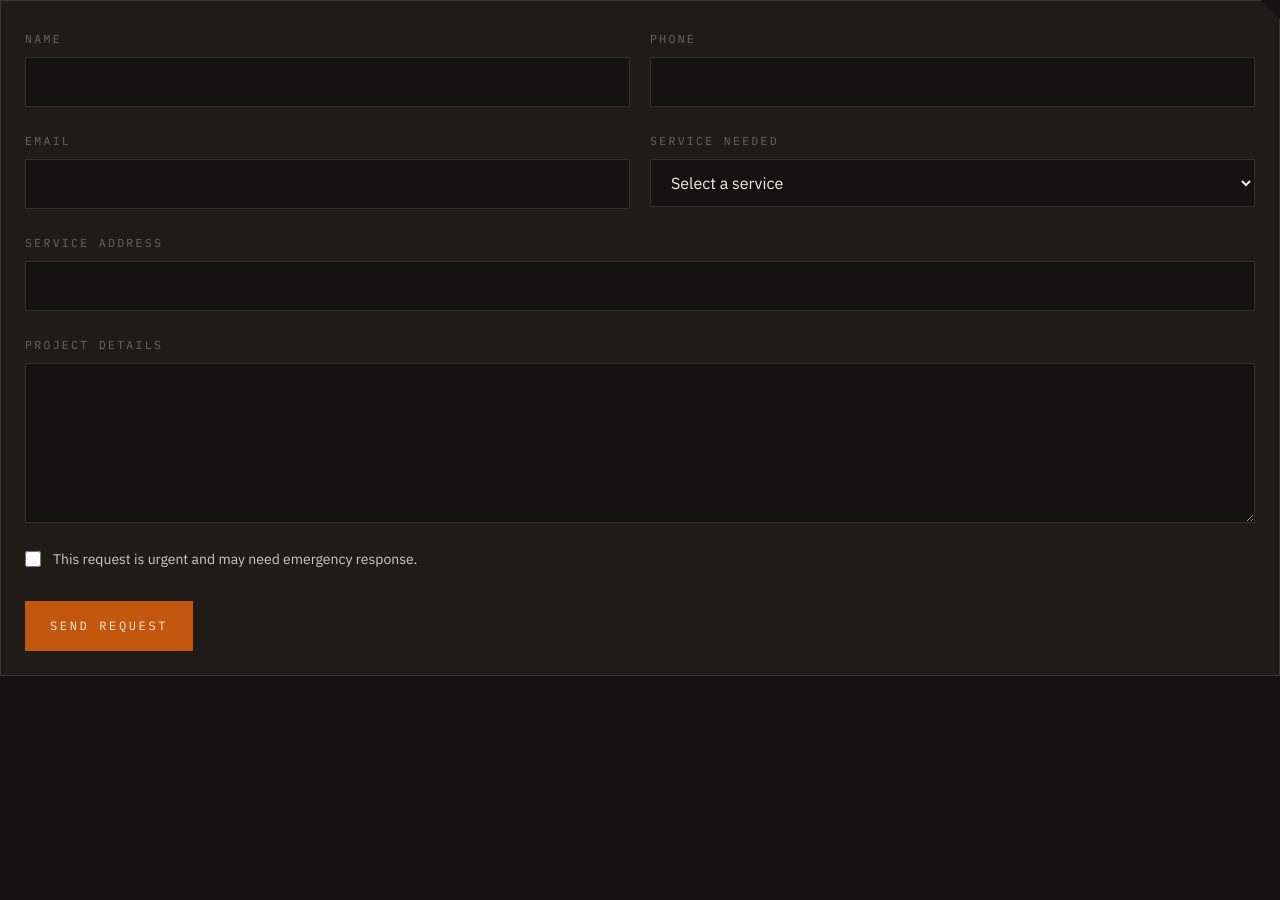
it: QuoteRequestForm › shows an error message when the submission fails
Type "Taylor Sparks" into the field labelled "Name" at [328, 82], box [25,57,630,107]
Type "555-0100" into the field labelled "Phone" at [952, 82], box [650,57,1255,107]
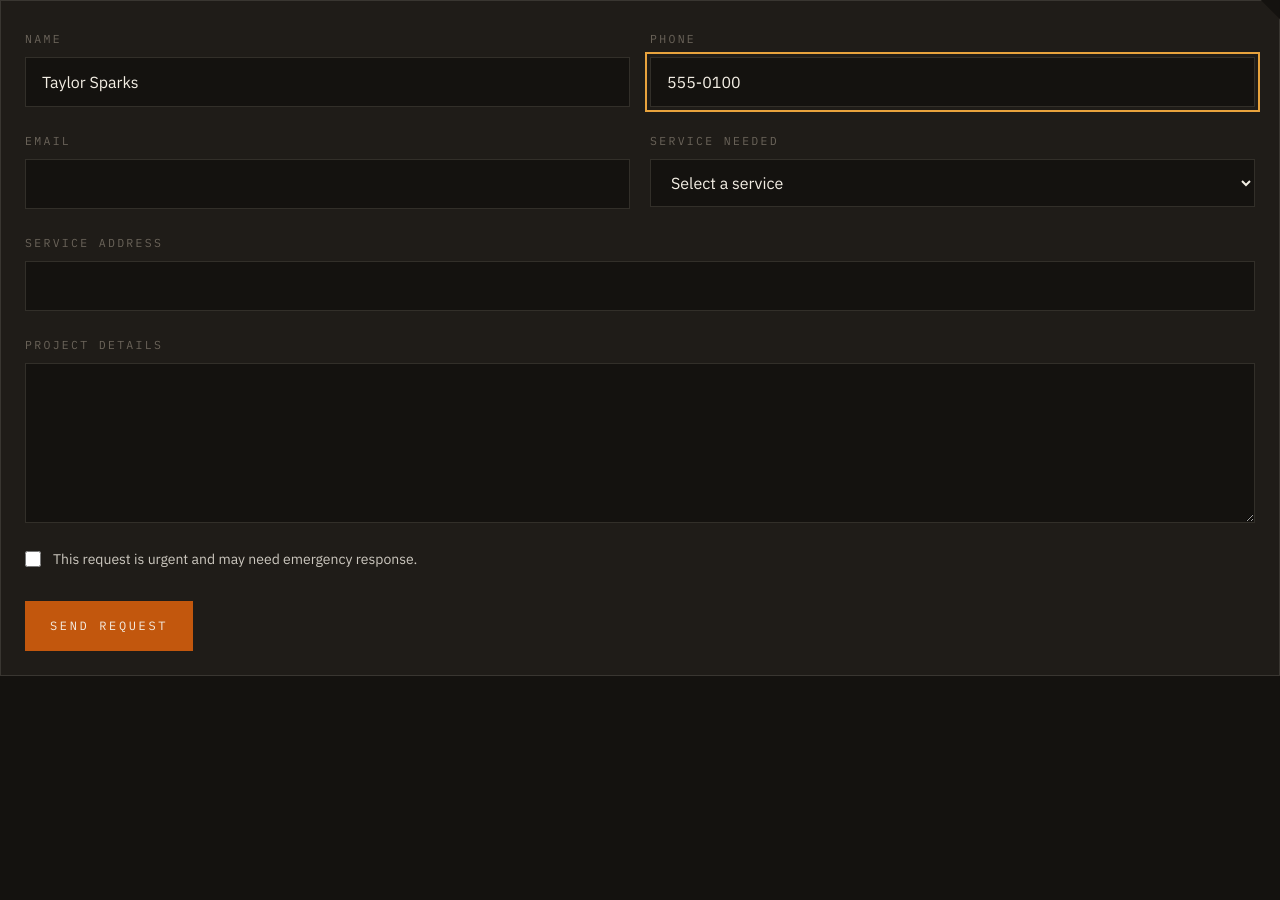
Type "taylor@example.com" into the field labelled "Email" at [328, 184], box [25,159,630,209]
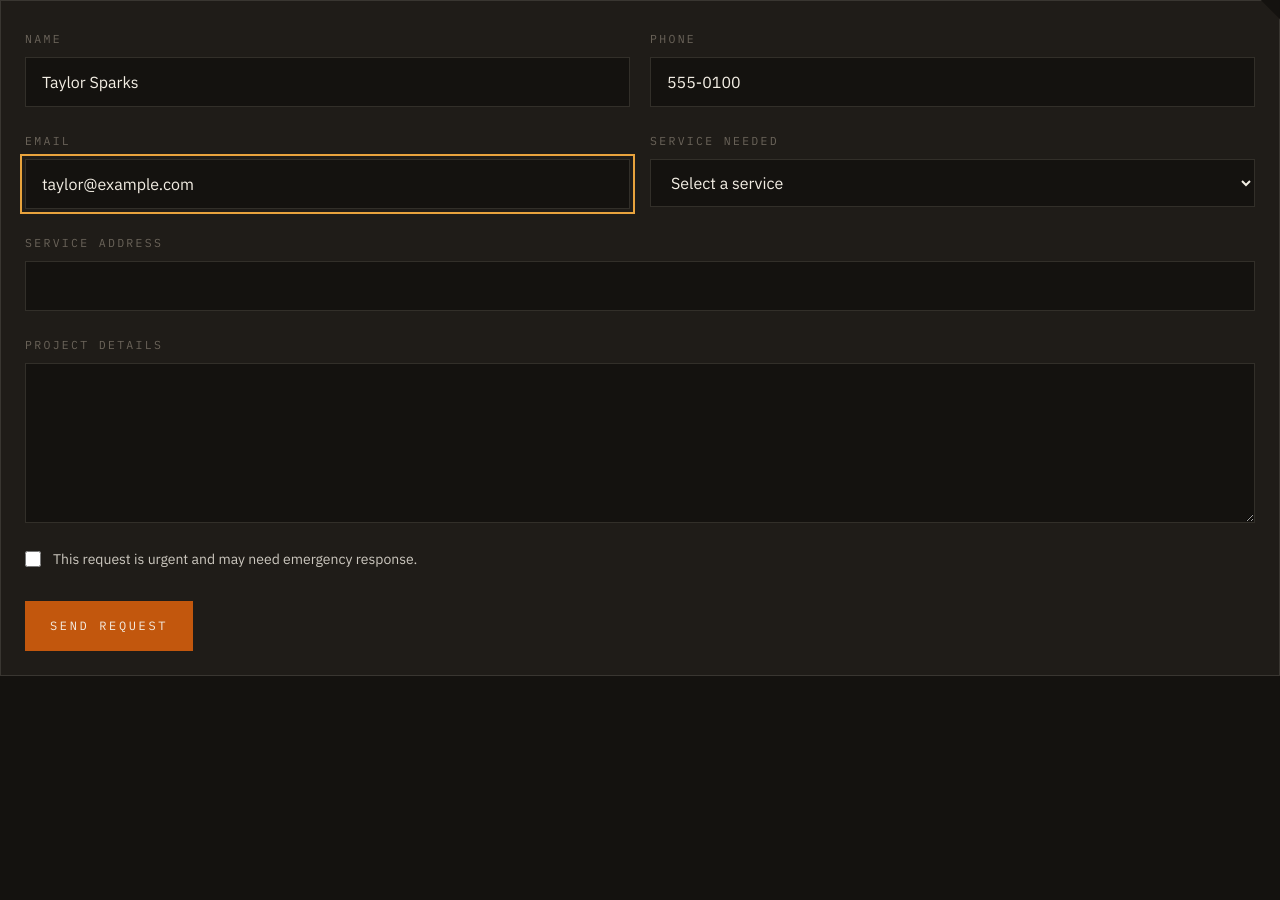
Select "Panel Upgrades" in the dropdown labelled "Service needed" at [952, 183], box [650,159,1255,207]
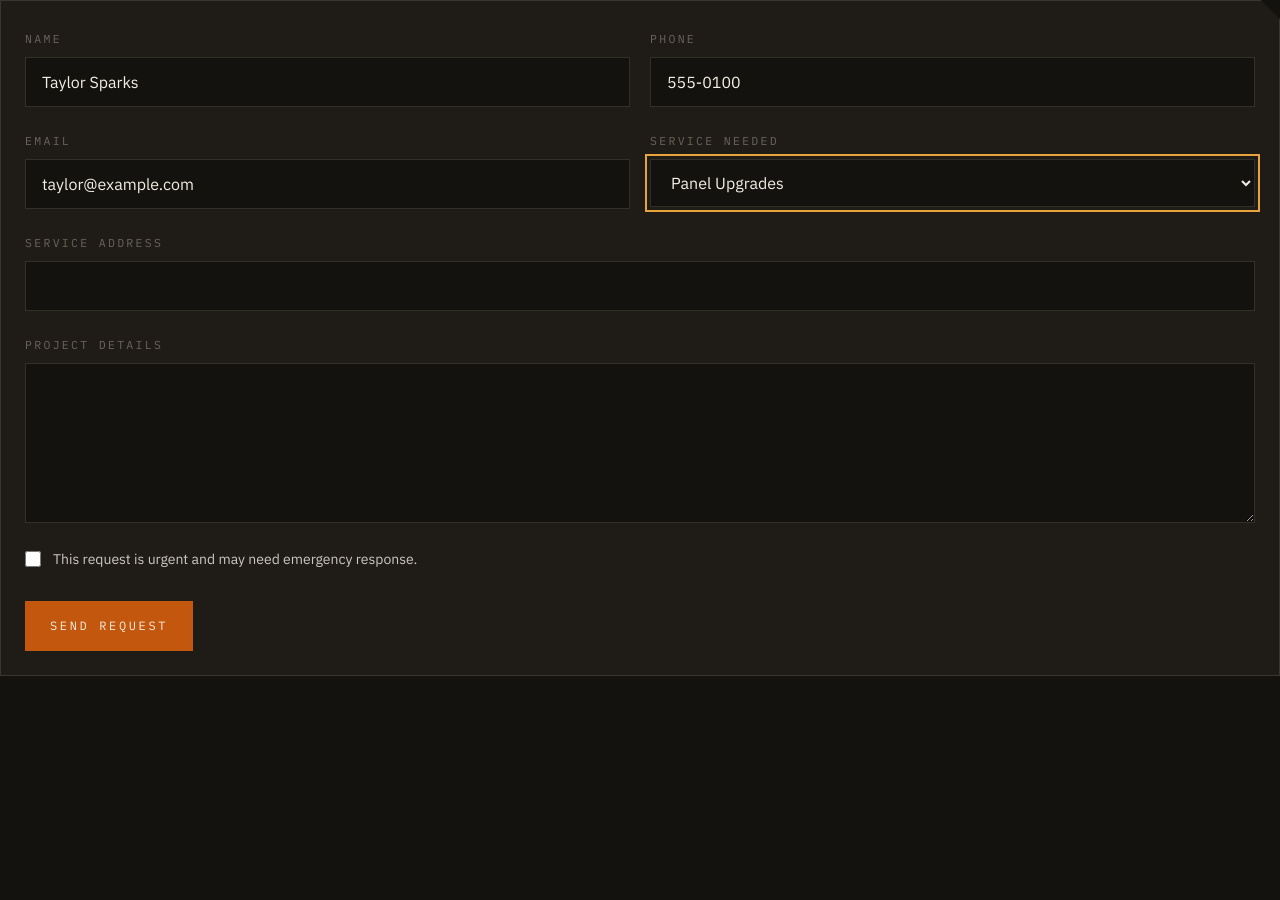
Type "123 Main Street" into the field labelled "Service address" at [640, 286], box [25,261,1255,311]
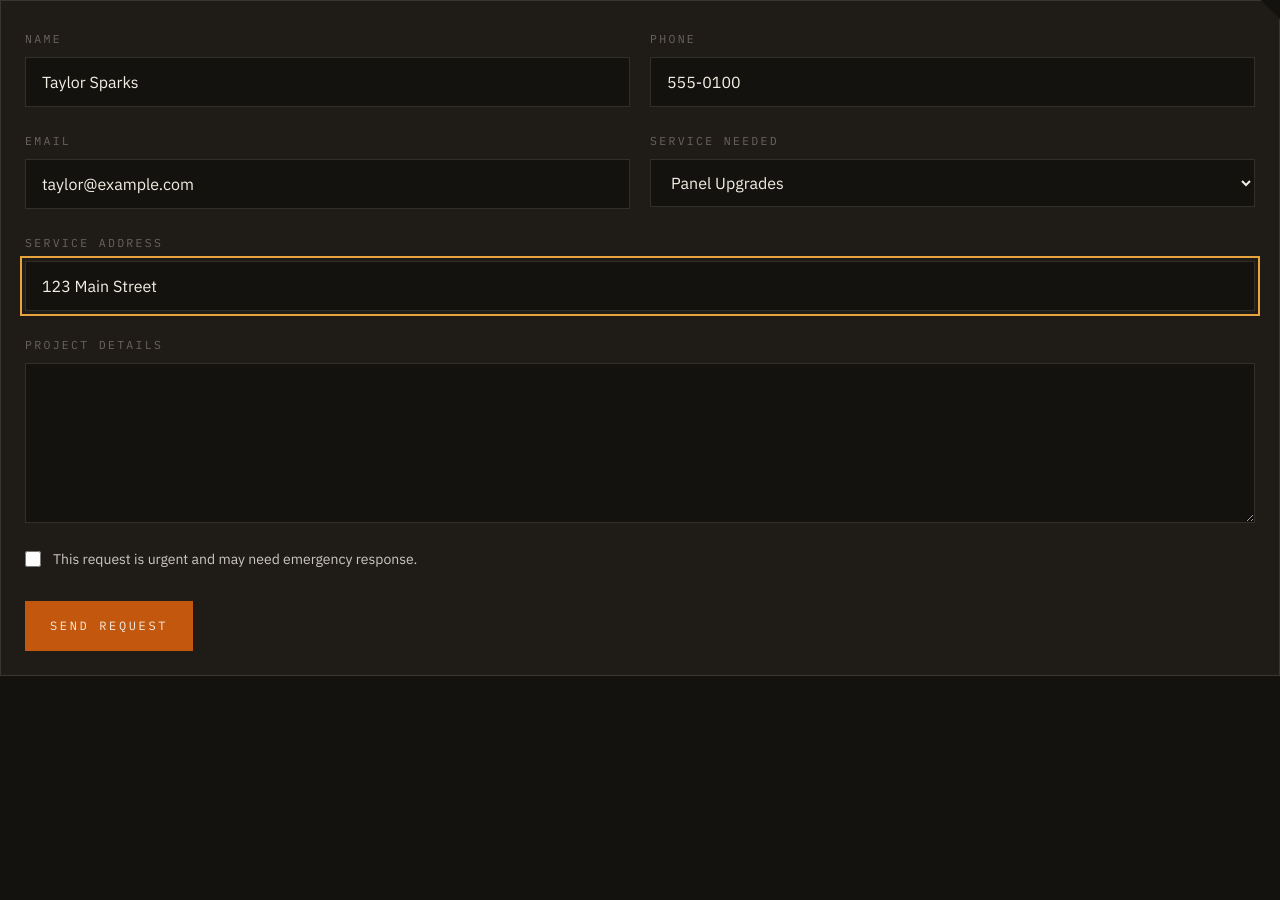
Type "Replace outdated panel and breakers." into the text box labelled "Project details" at [640, 443], box [25,363,1255,523]
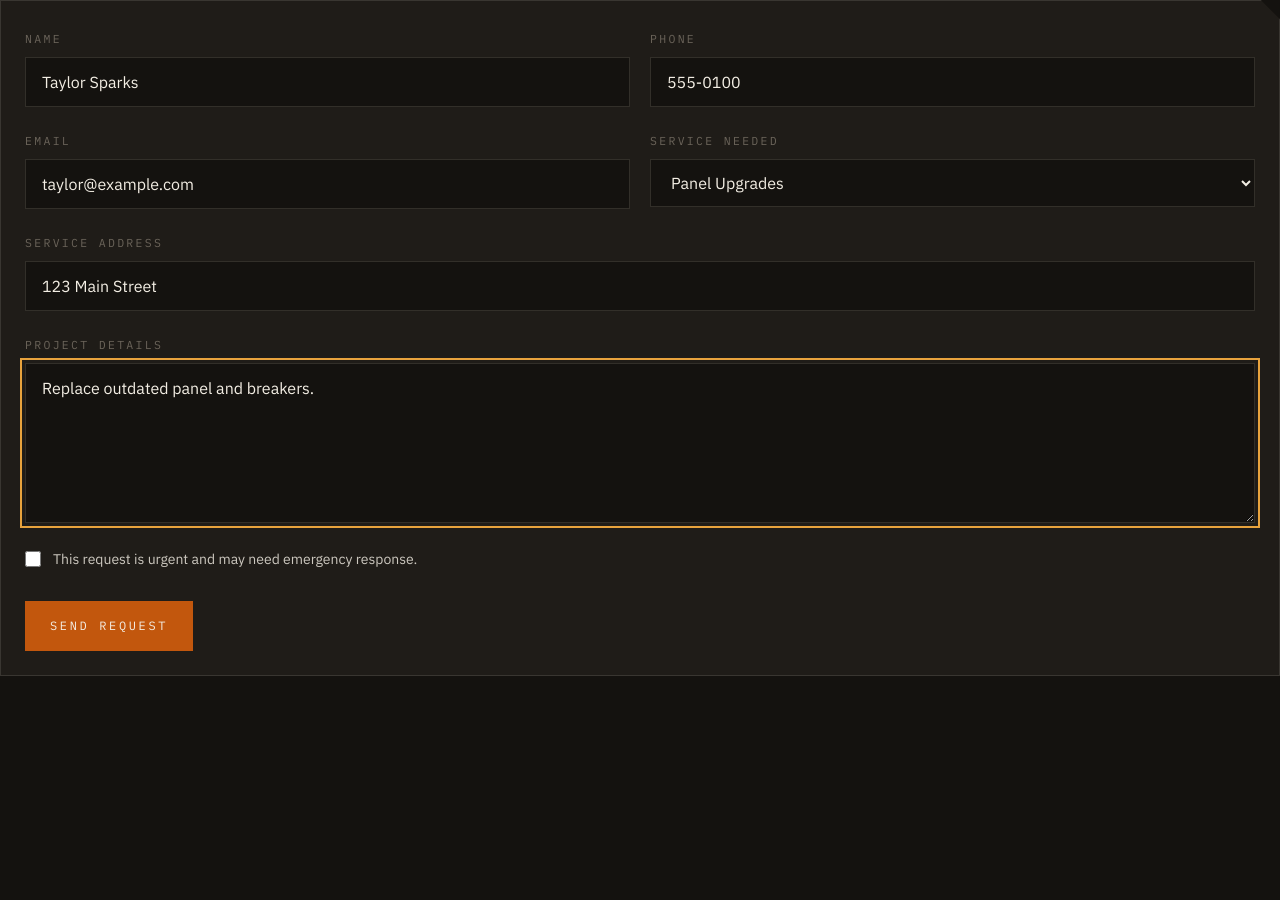
Click the button "Send request" at [109, 626], box [25,601,193,651]
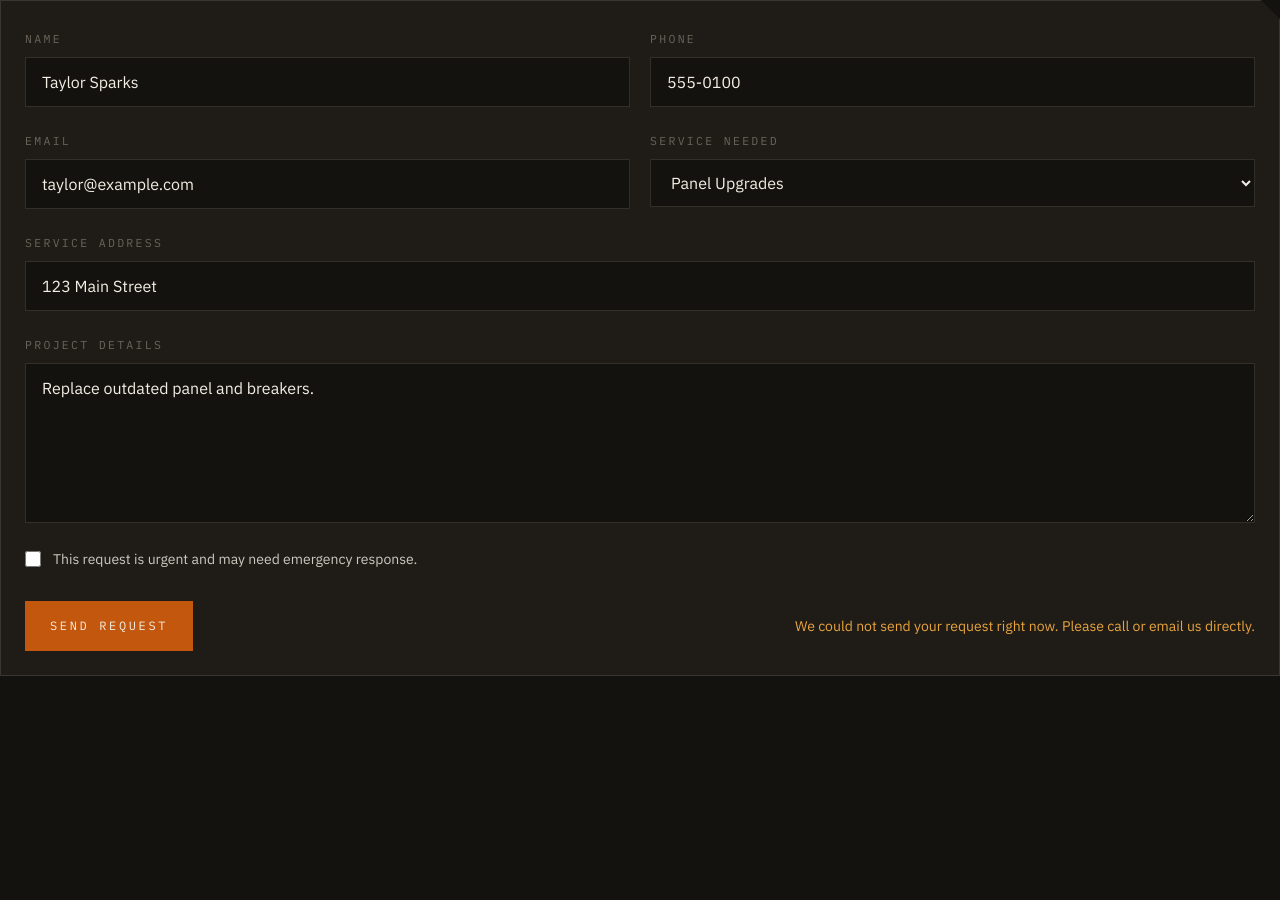
Now the text "We could not send your request right now. Please call or email us directly." is shown, box [795,616,1255,636]
